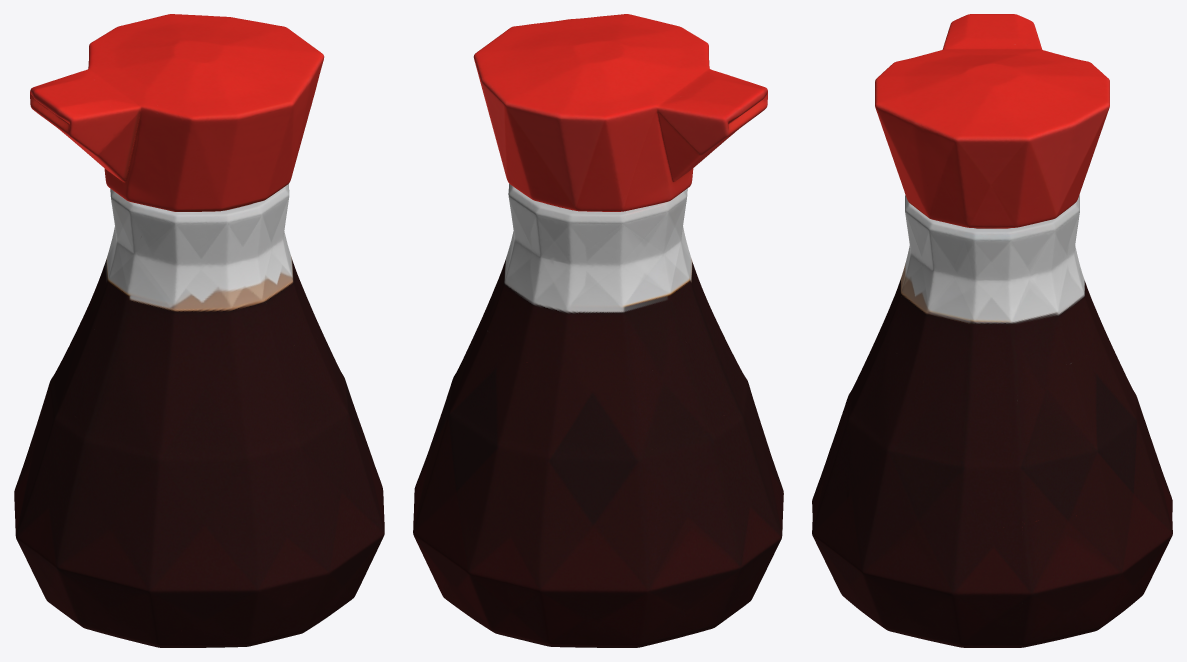
File: test_shoyu.glb
3 views of the same model, side by side, from view 1: azimuth 30°, elevation 25°; view 2: azimuth 150°, elevation 25°; view 3: azimuth 270°, elevation 25° (orthographic). The views are drawn at different scales.
Size of the model in its own units: 1.21 by 1.9 by 1.21.
1 material, 1 textured.
